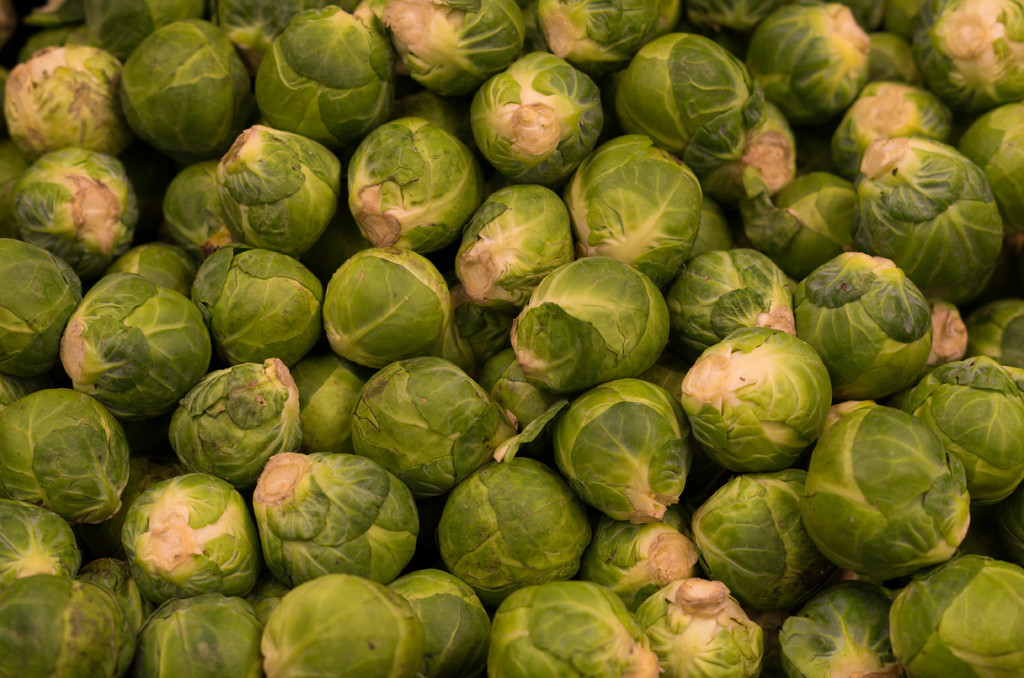Cabbage: (0, 0, 1023, 677)
